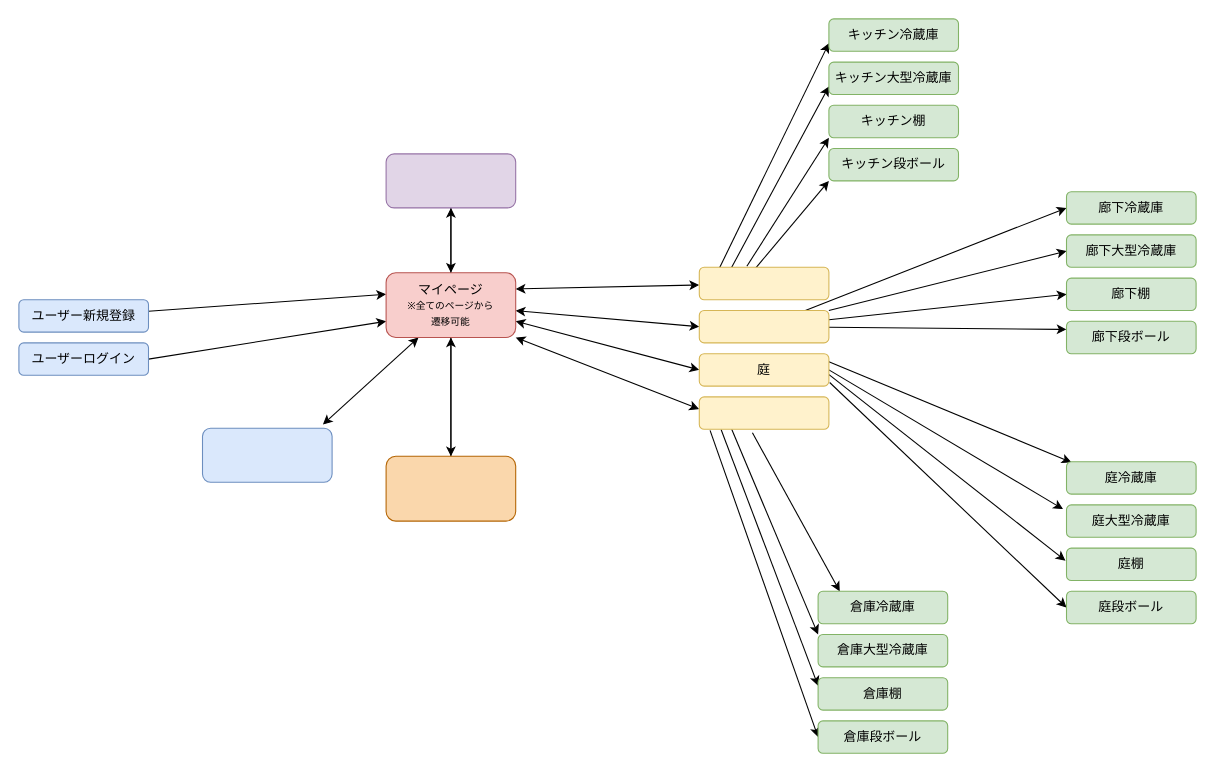
This 1215x772 diagram has some shape labels left out. Each missing label, with the centre of its shape:
お知らせ ※全てのページから 遷移可能: pixel 450 488
カレンダー ※全てのページから 遷移可能: pixel 450 180
キッチン: pixel 763 283
ユーザー情報編集 ※全てのページから 遷移可能: pixel 266 454
倉庫: pixel 763 412
廊下: pixel 763 326
